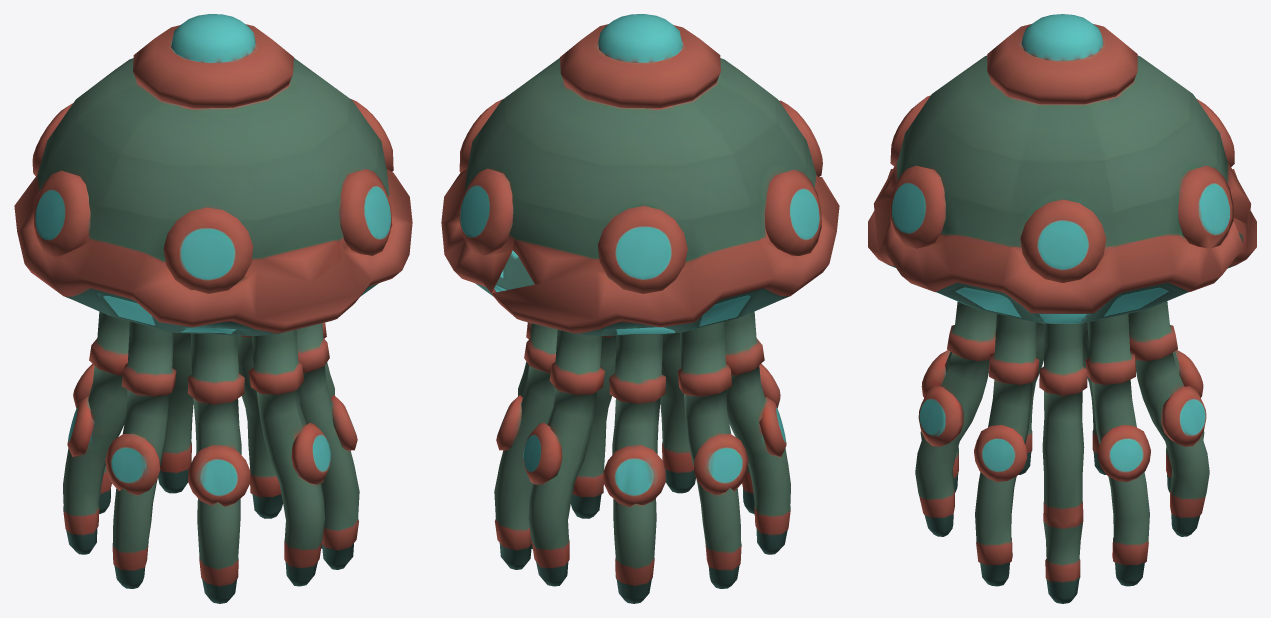
File: water_tidecaller.glb
3 views of the same model, side by side, from view 1: azimuth 30°, elevation 25°; view 2: azimuth 150°, elevation 25°; view 3: azimuth 270°, elevation 25° (orthographic). The views are drawn at different scales.
Visible parts, largest first — view 1: tripo_node_d9436ef1-41f8-4a39-ad34-d84d9b190ba9; view 2: tripo_node_d9436ef1-41f8-4a39-ad34-d84d9b190ba9; view 3: tripo_node_d9436ef1-41f8-4a39-ad34-d84d9b190ba9.
Boxes of the visible parts, <box> form: tripo_node_d9436ef1-41f8-4a39-ad34-d84d9b190ba9: <box>14,14,412,603</box>; tripo_node_d9436ef1-41f8-4a39-ad34-d84d9b190ba9: <box>441,14,839,603</box>; tripo_node_d9436ef1-41f8-4a39-ad34-d84d9b190ba9: <box>868,14,1256,603</box>.
Bounding box in the file's own units: 0.6577 × 0.9995 × 0.6606.
Materials: 1 (1 with a texture image).
